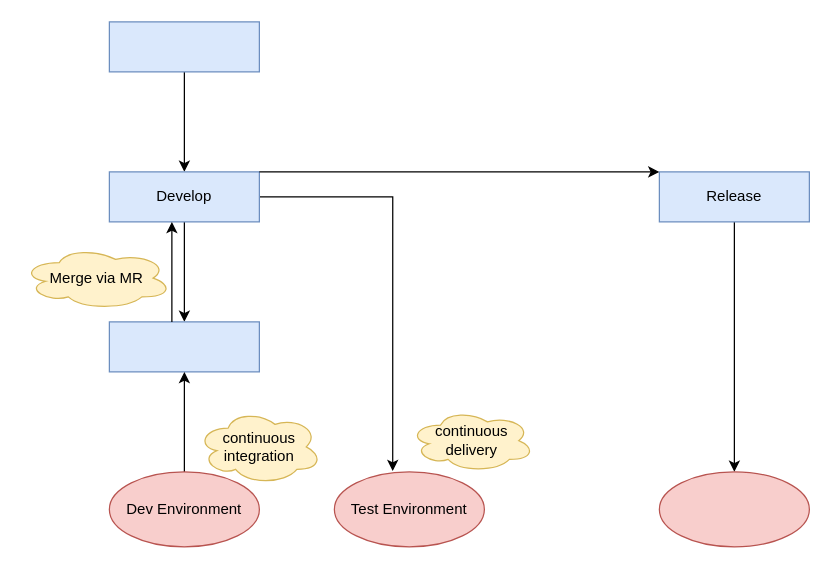
Some shapes in this 831 by 569 pixel diagram are drawn without their labels. The box of each missing label's shape, as (x1, y1, x2, y2) in pixels:
Feature: (108, 321, 259, 372)
Master: (108, 21, 259, 72)
Stage Environment: (658, 471, 809, 547)
